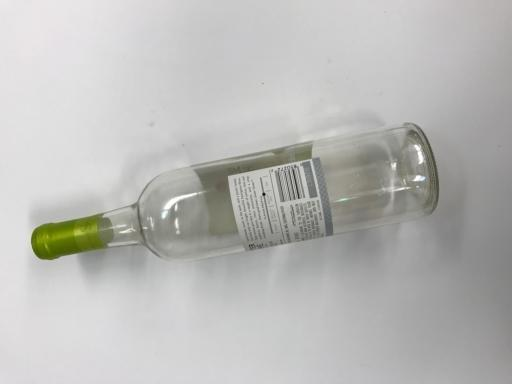botolkaca: (31, 122, 439, 261)
